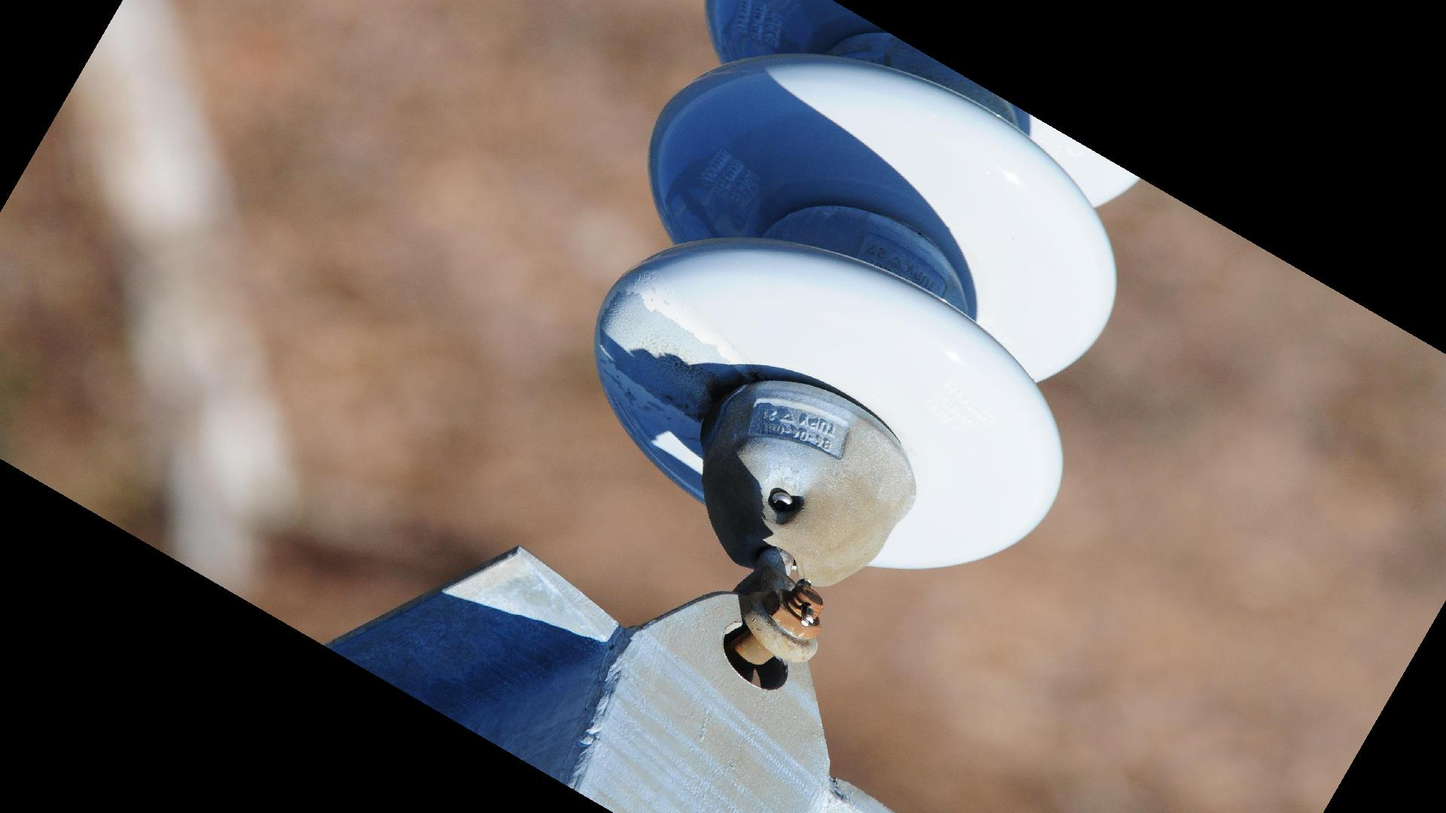insulator: (591, 1, 1146, 586)
insulator_flashover: (593, 281, 741, 425)
